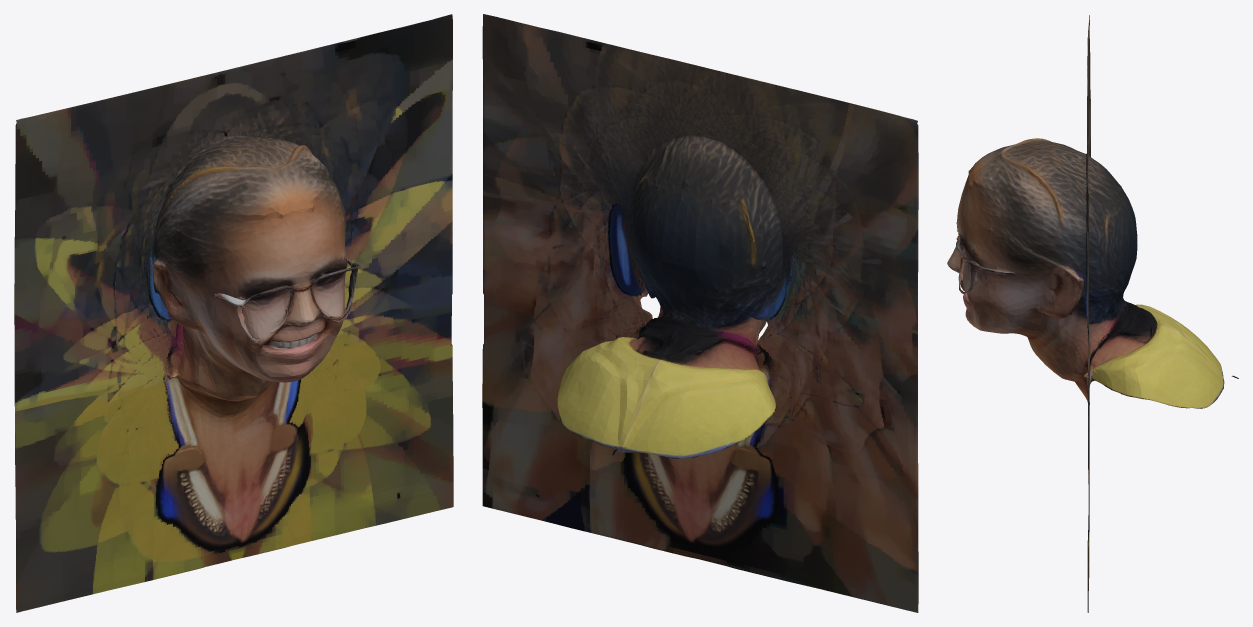
File: sample.glb
3 views of the same model, side by side, from view 1: azimuth 30°, elevation 25°; view 2: azimuth 150°, elevation 25°; view 3: azimuth 270°, elevation 25° (orthographic). The views are drawn at different scales.
Parts seen in each view (by area): view 1: world; view 2: world; view 3: world.
Part boxes in pixels (bbox=[...]): world: bbox=[14, 14, 453, 612]; world: bbox=[482, 14, 918, 612]; world: bbox=[947, 15, 1238, 612].
Bounding box in the file's own units: 0.929 × 1 × 0.632.
1 material, 1 textured.
